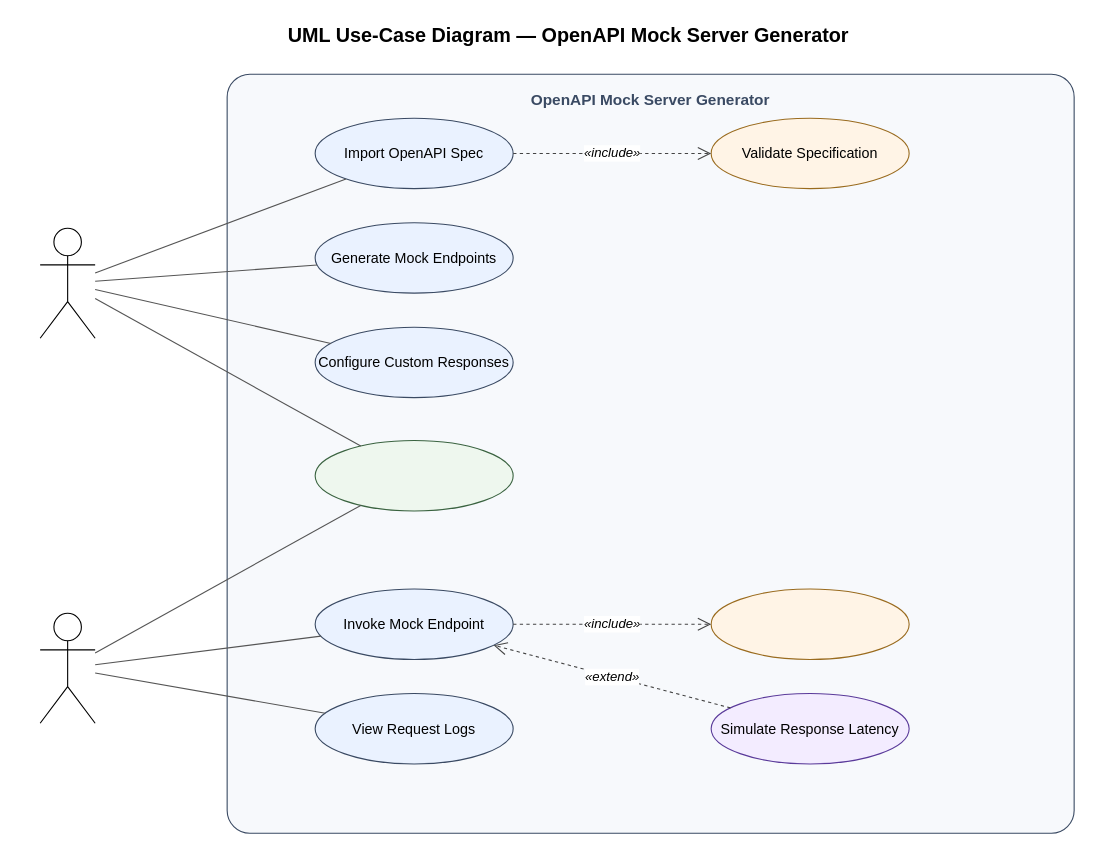
The diagram is 1093 pixels wide and 853 high, and some of its shapes have lost their labels. Here are the shapes that lost their labels. From the top down, the centre of each, then its label:
At point 67,282: "API Developer".
At point 413,475: "Configure Response Latency".
At point 809,623: "Validate Request Schema".
At point 67,667: "QA Engineer".
